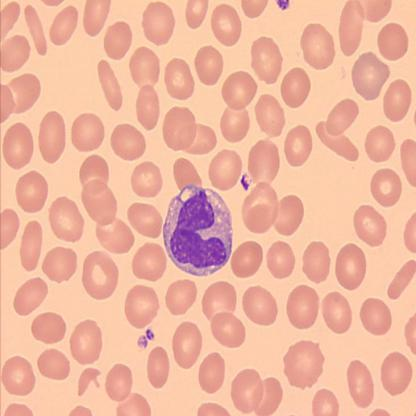Monocyte: (161, 180, 235, 280)
